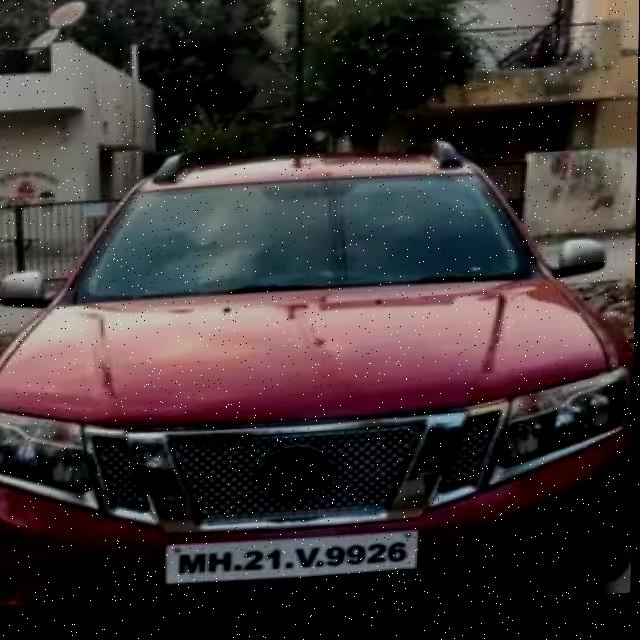plate: (168, 534, 419, 593)
